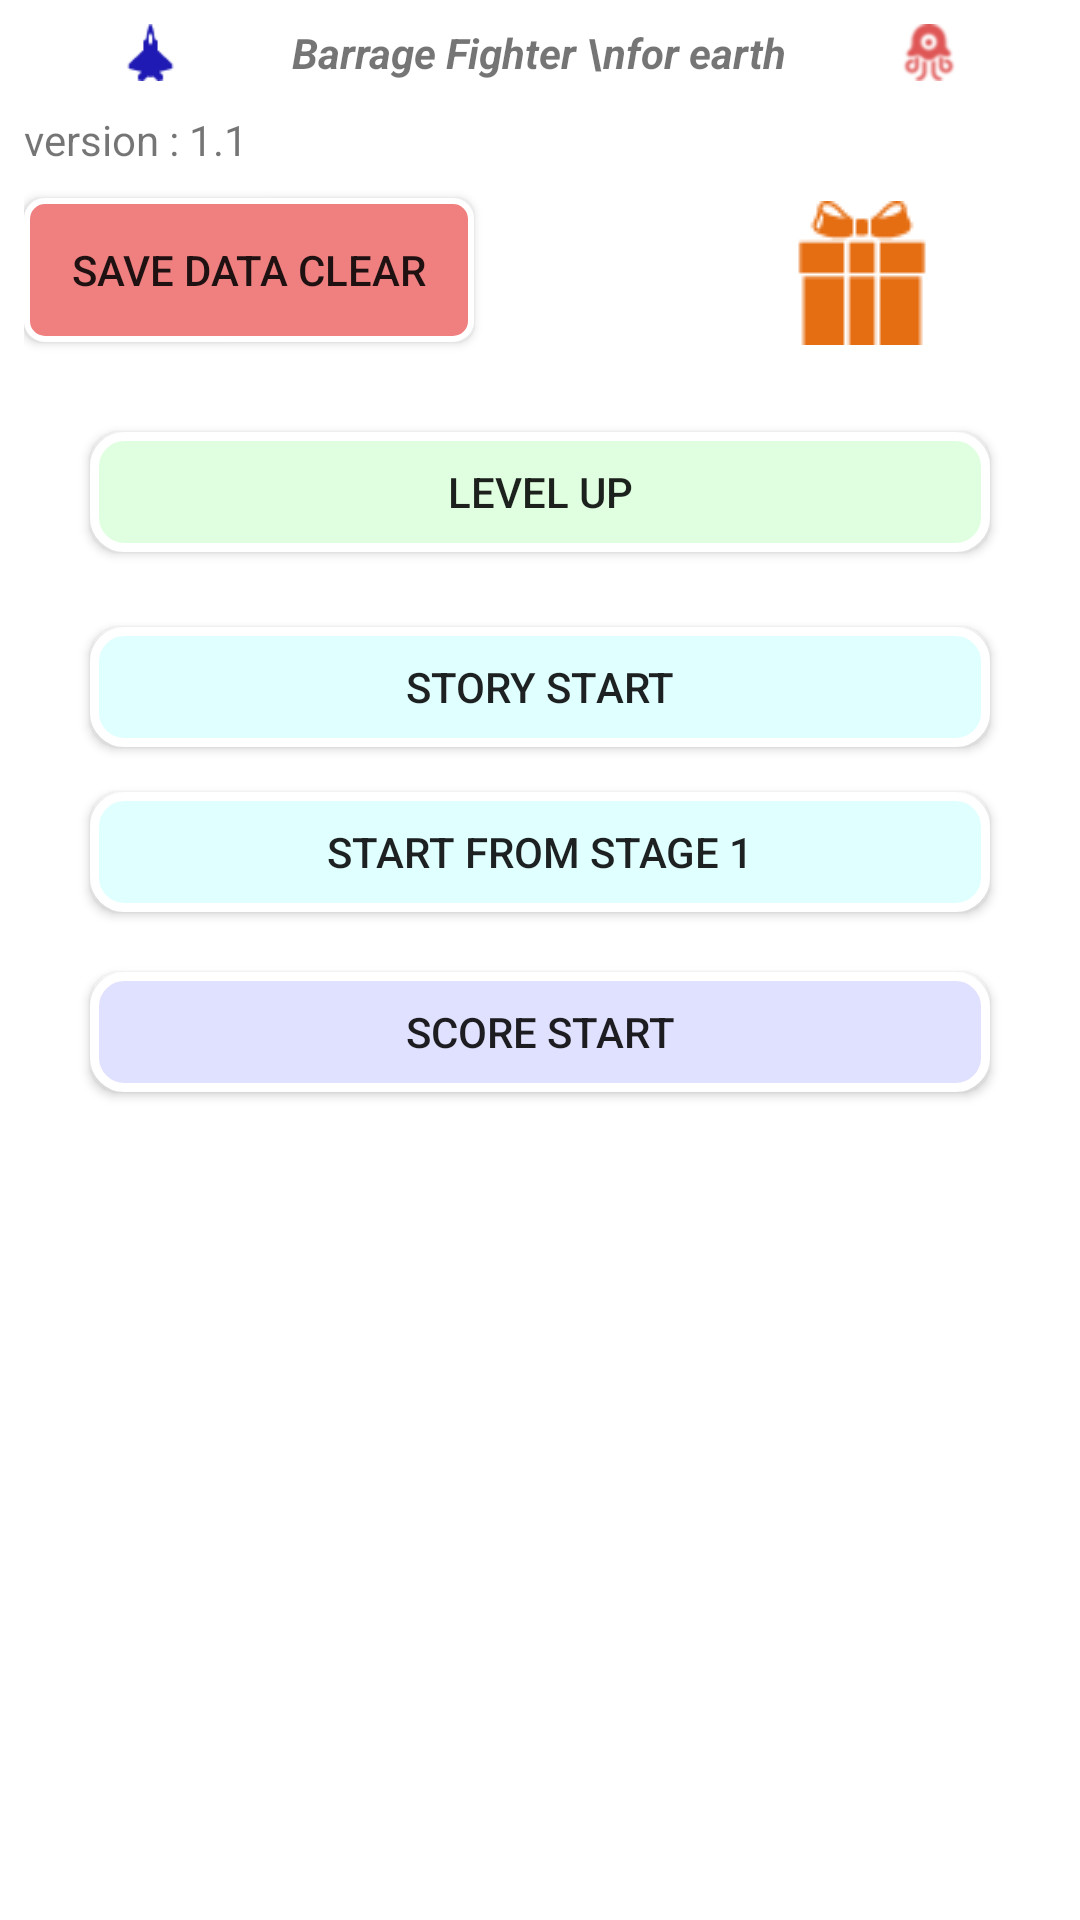

Named icons in this screenshot (1080x1920) and their bounding boxes, (x1, y1, x2, y2):
enemy: (904, 24, 954, 81)
plain: (127, 24, 174, 81)
present: (798, 201, 926, 345)
